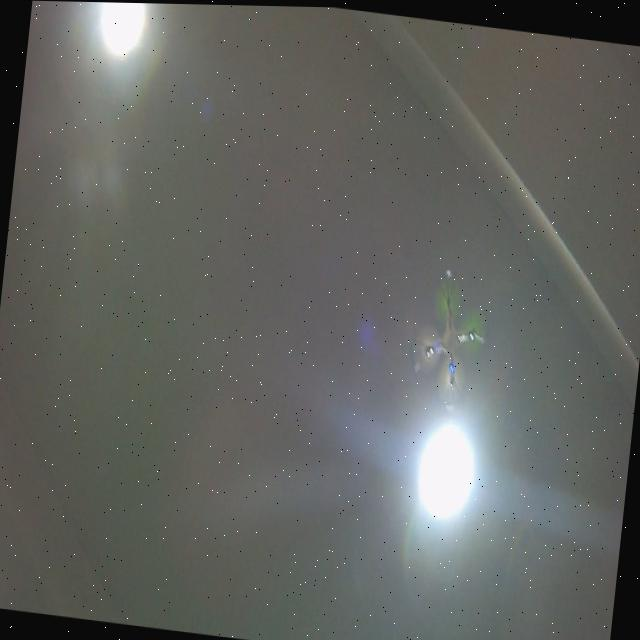drone: (402, 260, 498, 415)
